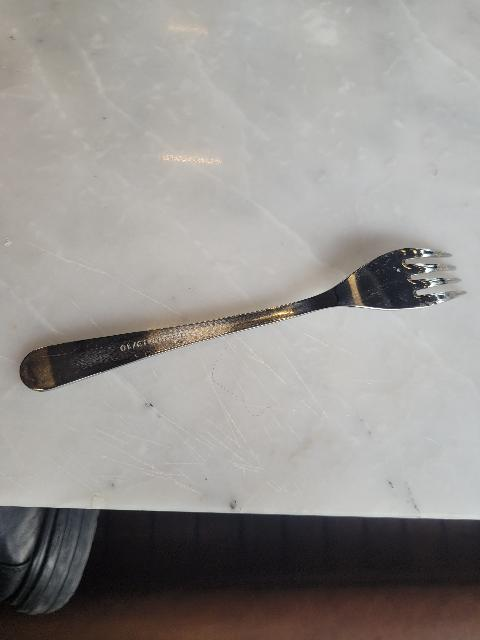Metal: (15, 237, 480, 418)
